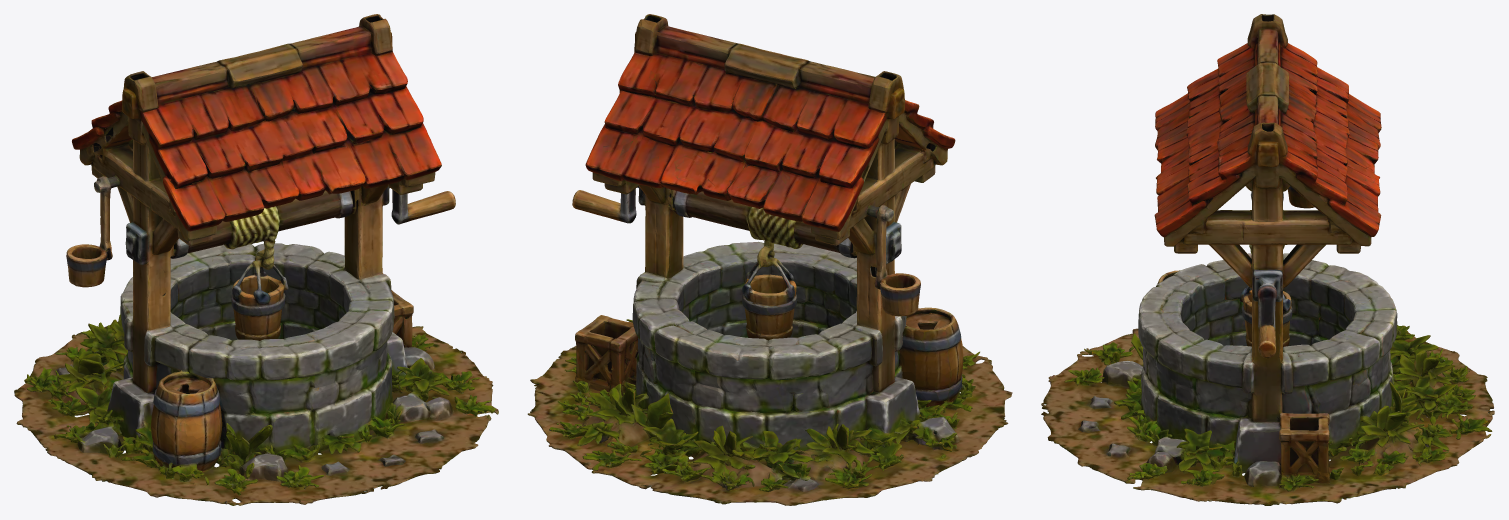
Rendered from villageWell.glb.
The picture shows the model from 3 angles, left to right: view 1: azimuth 30°, elevation 25°; view 2: azimuth 150°, elevation 25°; view 3: azimuth 270°, elevation 25°; orthographic projection. The views are drawn at different scales.
Parts seen in each view (by area): view 1: geometry_0; view 2: geometry_0; view 3: geometry_0.
Boxes of the visible parts, bbox=[...] form: geometry_0: bbox=[14, 14, 498, 505]; geometry_0: bbox=[527, 14, 1012, 505]; geometry_0: bbox=[1041, 14, 1494, 505].
Size of the model in its own units: 1 by 0.8301 by 0.9955.
1 material, 1 textured.
